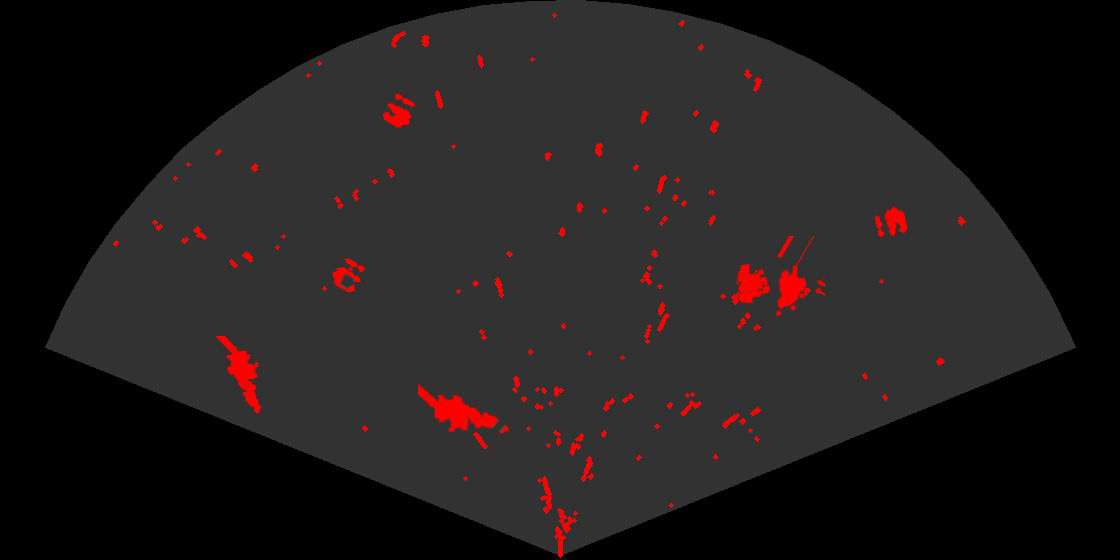ball: (381, 92, 417, 130), (331, 257, 367, 294), (873, 205, 909, 239)
cage: (735, 236, 825, 318)
frogman: (418, 382, 511, 435), (214, 336, 263, 415)
